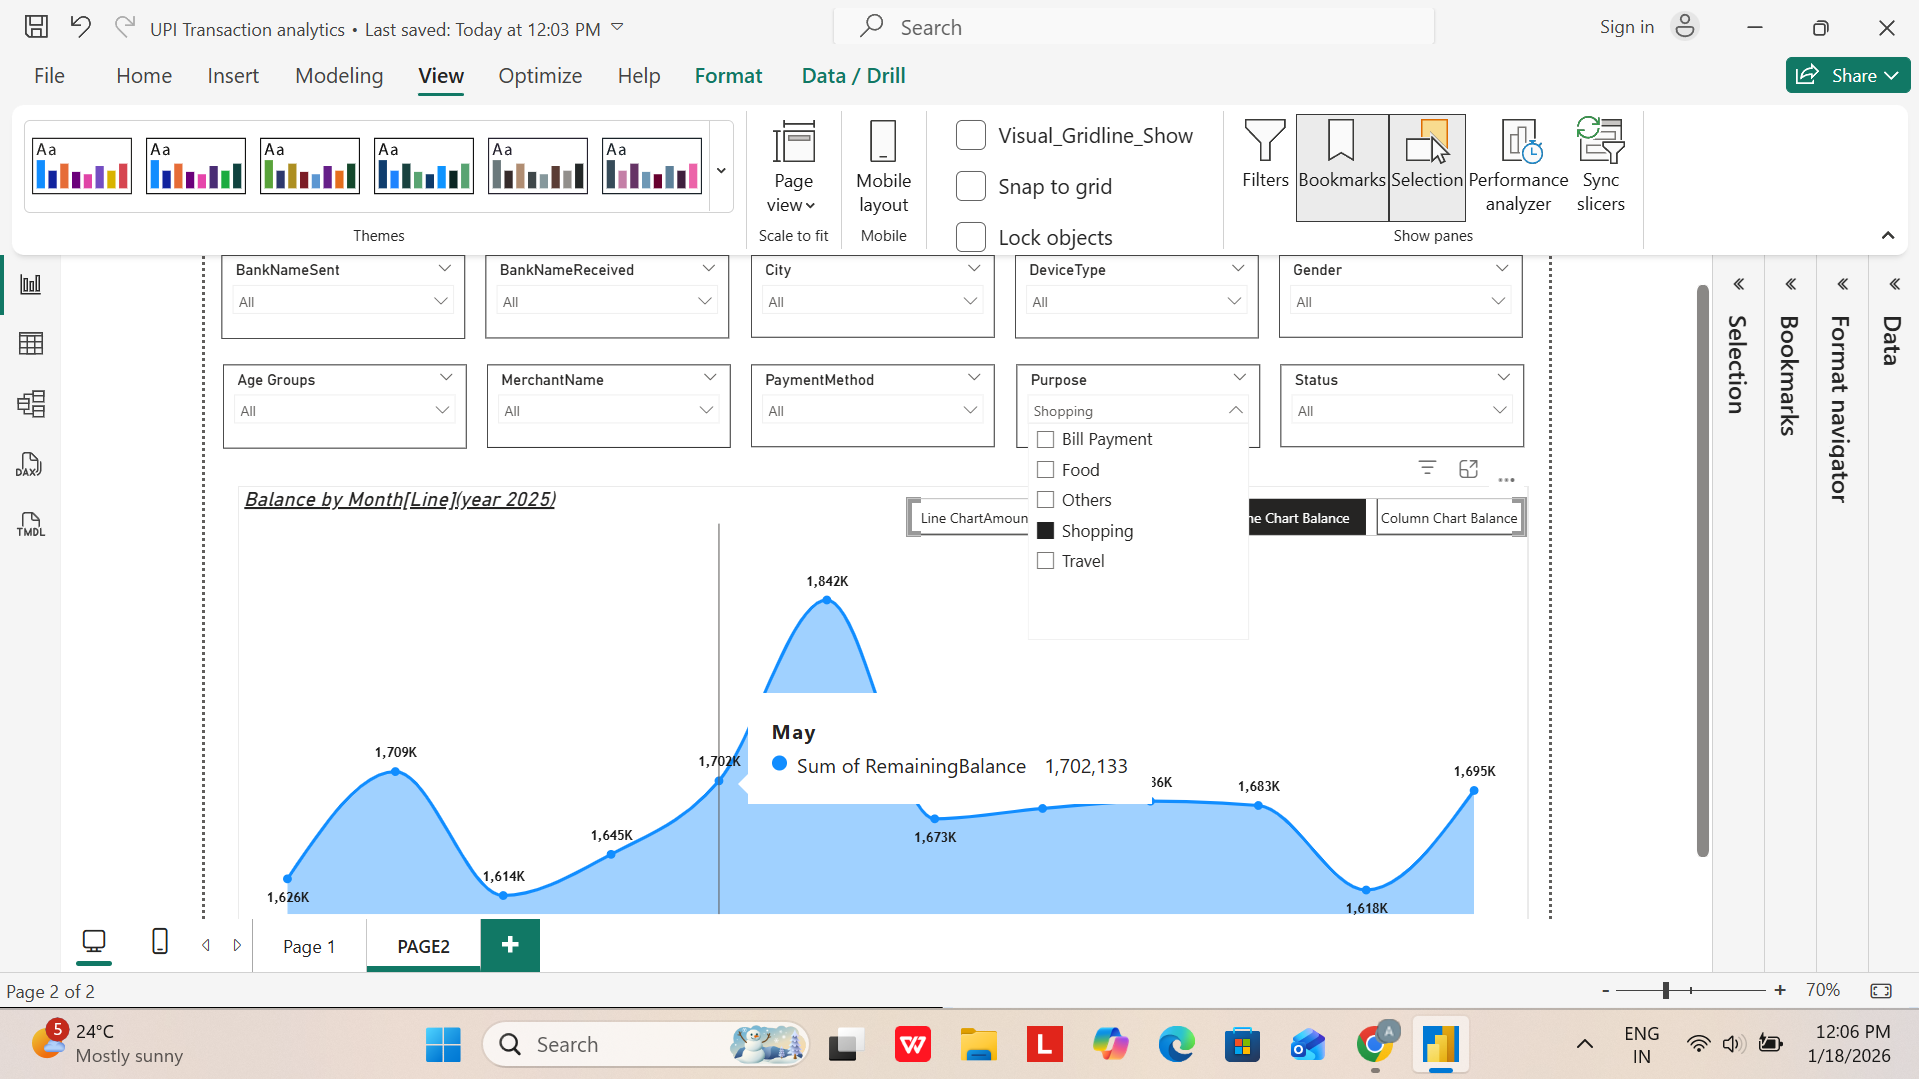

This screenshot's page, from the dashboard's own definition file:
{"tool":"powerbi","page":{"name":"PAGE2 ","canvas":[1280,720],"ordinal":1},"visuals":[{"type":"slicer","fields":{"Values":["Transaction details.BankNameSent"]},"box":[15.6,20,232,80],"z":0},{"type":"slicer","fields":{"Values":["Transaction details.BankNameReceived"]},"box":[267.6,20,232,79],"z":1000},{"type":"slicer","fields":{"Values":["Transaction details.City"]},"box":[519.6,20,232,78.3],"z":2000},{"type":"slicer","fields":{"Values":["Transaction details.DeviceType"]},"box":[771.6,20,232,79],"z":3000},{"type":"slicer","fields":{"Values":["Transaction details.Gender"]},"box":[1023.6,20,232,78.3],"z":4000},{"type":"slicer","fields":{"Values":["Transaction details.Age Groups"]},"box":[16.7,124.4,232,80],"z":5000},{"type":"slicer","fields":{"Values":["Transaction details.MerchantName"]},"box":[268.7,124.4,232,79],"z":6000},{"type":"slicer","fields":{"Values":["Transaction details.PaymentMethod"]},"box":[520.7,124.4,232,78.3],"z":7000},{"type":"slicer","fields":{"Values":["Transaction details.Purpose"]},"box":[772.7,124.4,232,79],"z":8000},{"type":"slicer","fields":{"Values":["Transaction details.Status"]},"box":[1024.7,124.4,232,78.3],"z":9000},{"type":"lineChart","title":"Transactions by Month[Line](year 2025)","fields":{"Y":["Sum(Transaction details.Amount)"],"Category":["Transaction details.TransactionDate.Variation.Date Hierarchy.Month"]},"box":[28.3,251.7,1226.7,370],"z":10000},{"type":"bookmarkNavigator","box":[668.3,251.7,588.3,35],"z":14500}]}

Visuals, with their boxes on the page's 1280x720 design canvas (x1, y1, x2, y2). These are canvas units, not pixel positions in the 1919x1079 screenshot, which may show the page scaled, cropped or inside an application window:
slicer - Transaction details.BankNameSent: box=[16, 20, 248, 100]
slicer - Transaction details.BankNameReceived: box=[268, 20, 500, 99]
slicer - Transaction details.City: box=[520, 20, 752, 98]
slicer - Transaction details.DeviceType: box=[772, 20, 1004, 99]
slicer - Transaction details.Gender: box=[1024, 20, 1256, 98]
slicer - Transaction details.Age Groups: box=[17, 124, 249, 204]
slicer - Transaction details.MerchantName: box=[269, 124, 501, 203]
slicer - Transaction details.PaymentMethod: box=[521, 124, 753, 203]
slicer - Transaction details.Purpose: box=[773, 124, 1005, 203]
slicer - Transaction details.Status: box=[1025, 124, 1257, 203]
"Transactions by Month[Line](year 2025)" lineChart: box=[28, 252, 1255, 622]
bookmarkNavigator: box=[668, 252, 1257, 287]
